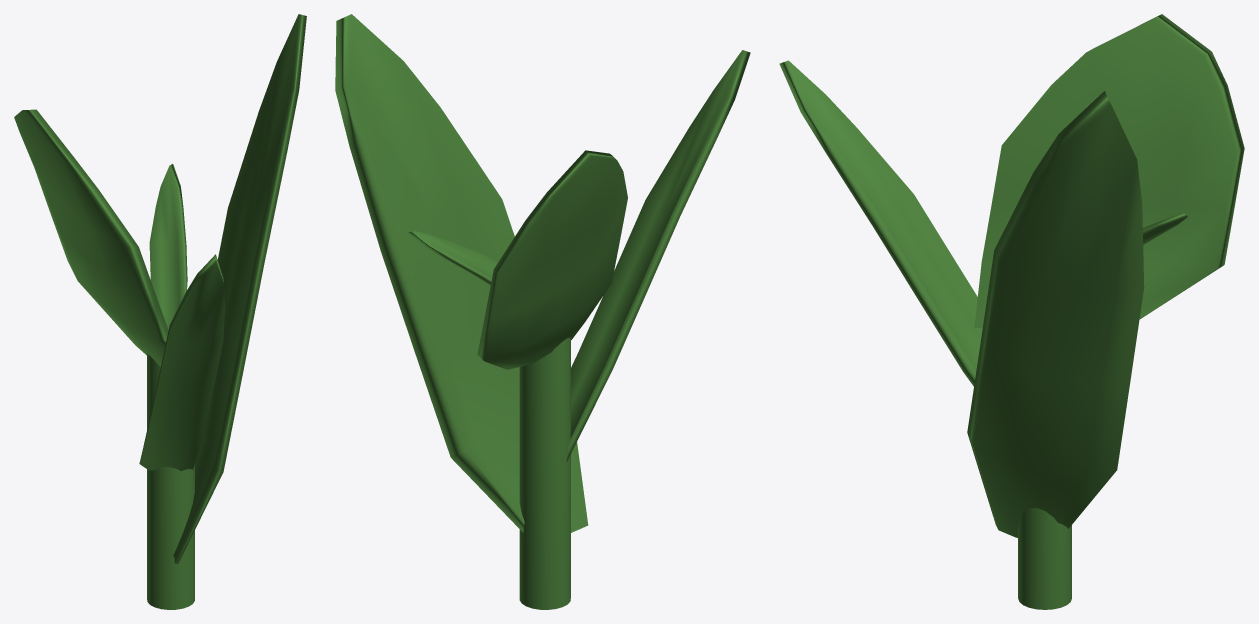
File: Plant2.fbx
3 renders of one model, left to right at view 1: azimuth 30°, elevation 25°; view 2: azimuth 150°, elevation 25°; view 3: azimuth 270°, elevation 25°, orthographic. The views are drawn at different scales.
Parts seen in each view (by area): view 1: polySurface2; view 2: polySurface2; view 3: polySurface2.
Boxes of the visible parts, x1,y1,x2,y2 form: polySurface2: [14, 14, 306, 609]; polySurface2: [335, 14, 750, 609]; polySurface2: [779, 14, 1244, 609].
Size of the model in its own units: 2.16 by 4.16 by 2.96.
